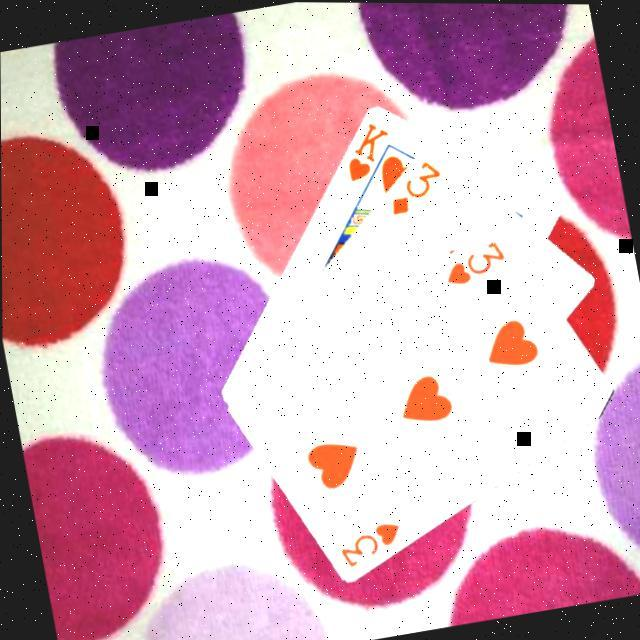3D: (377, 154, 448, 220)
3H: (330, 517, 406, 573), (435, 236, 510, 292)
KH: (334, 116, 397, 186)
